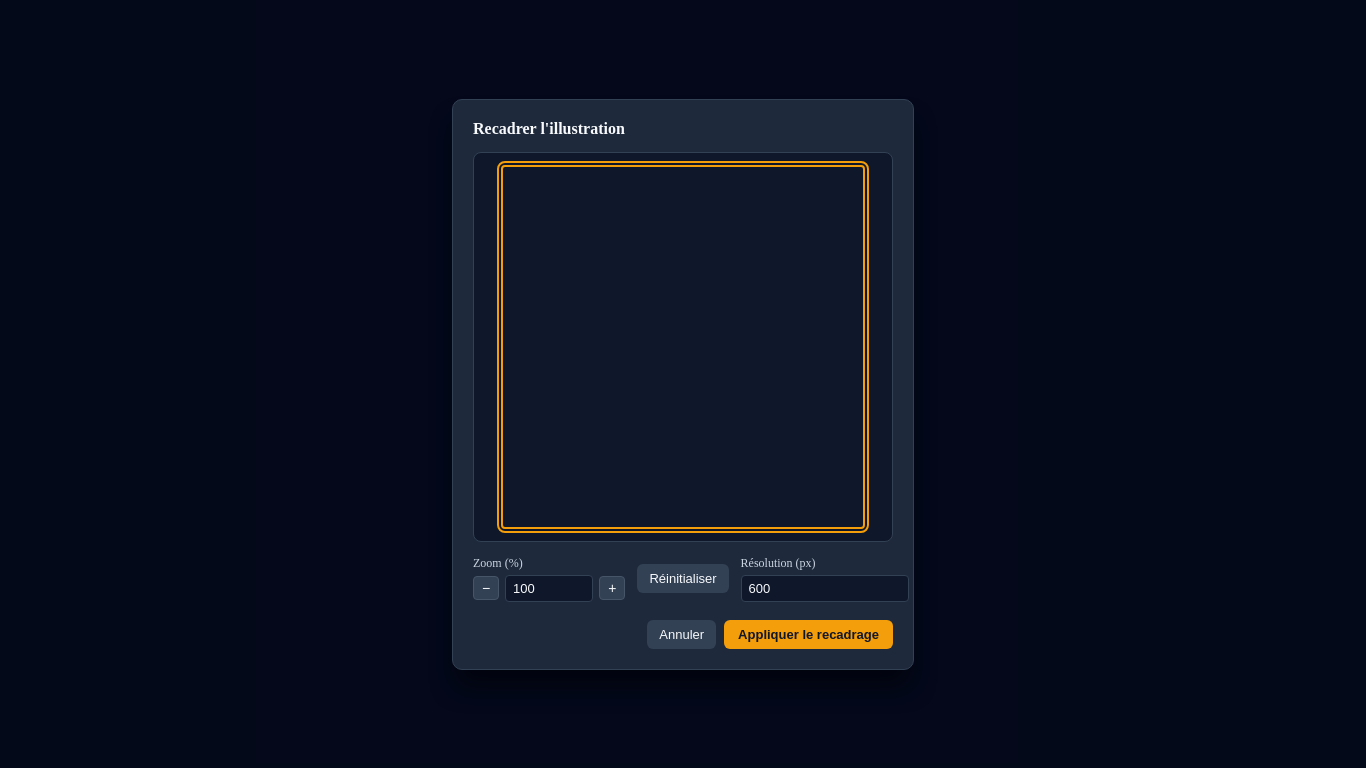
it: ImageCropper › can zoom out below 100% with the editable zoom field and the zoom buttons
This screenshot has width=1366, height=768.
Expected: the button "Appliquer le recadrage" is enabled, [724,620,893,648]
Click the button named "Dézoomer" at (486, 588), box [473,576,499,600]
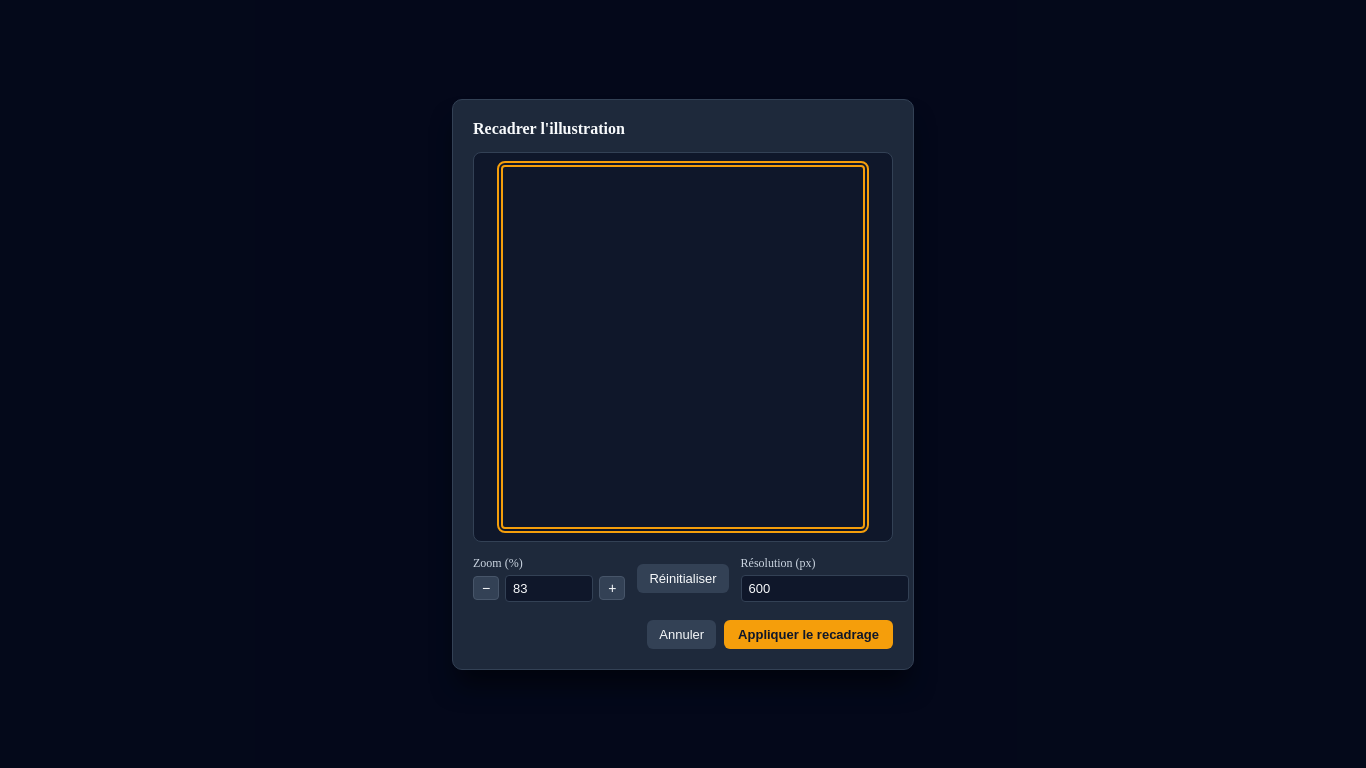
Now the field named "Zoom (%)" holds "83", box [505,574,593,602]
Click the button named "Zoomer" at (612, 588), box [599,576,625,600]
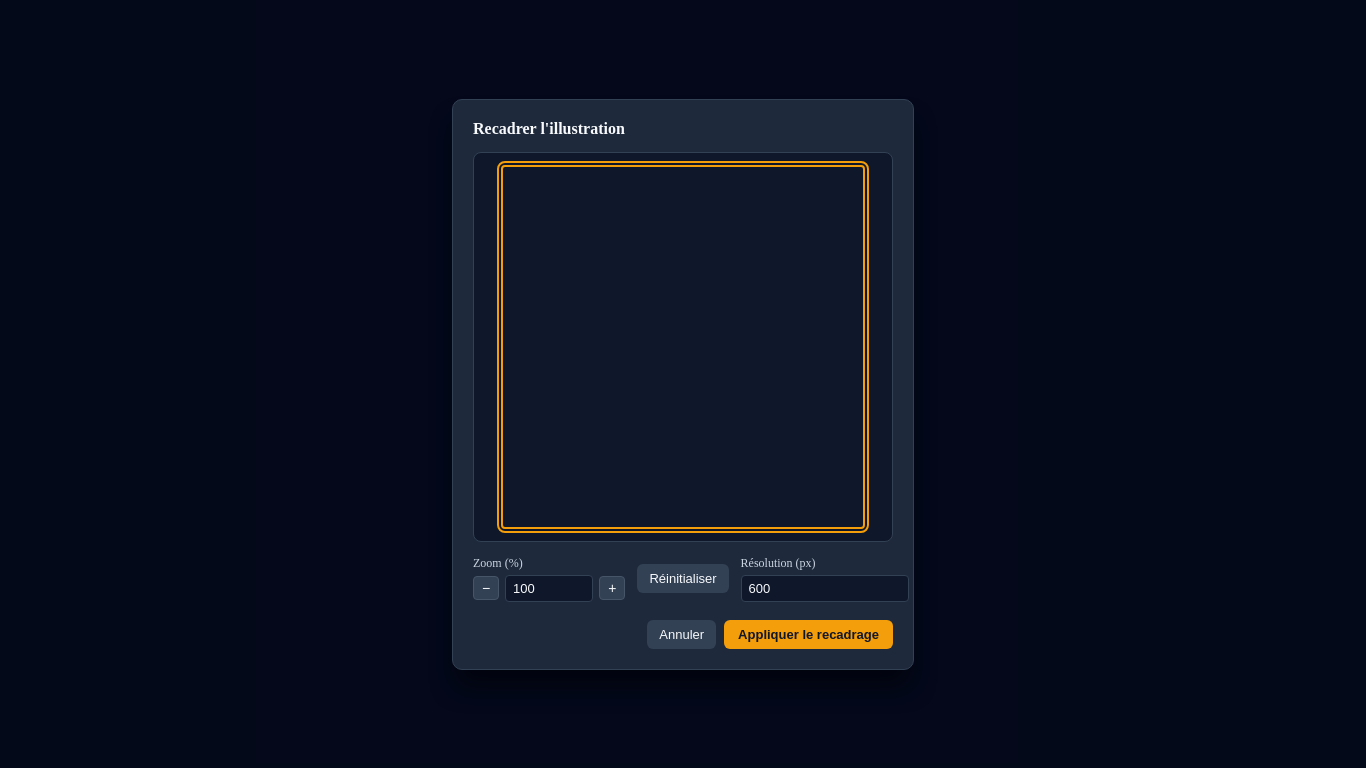
Now the field named "Zoom (%)" holds "100"
Replace the text in the field named "Zoom (%)" with "50%" at (549, 588), box [505,574,593,602]
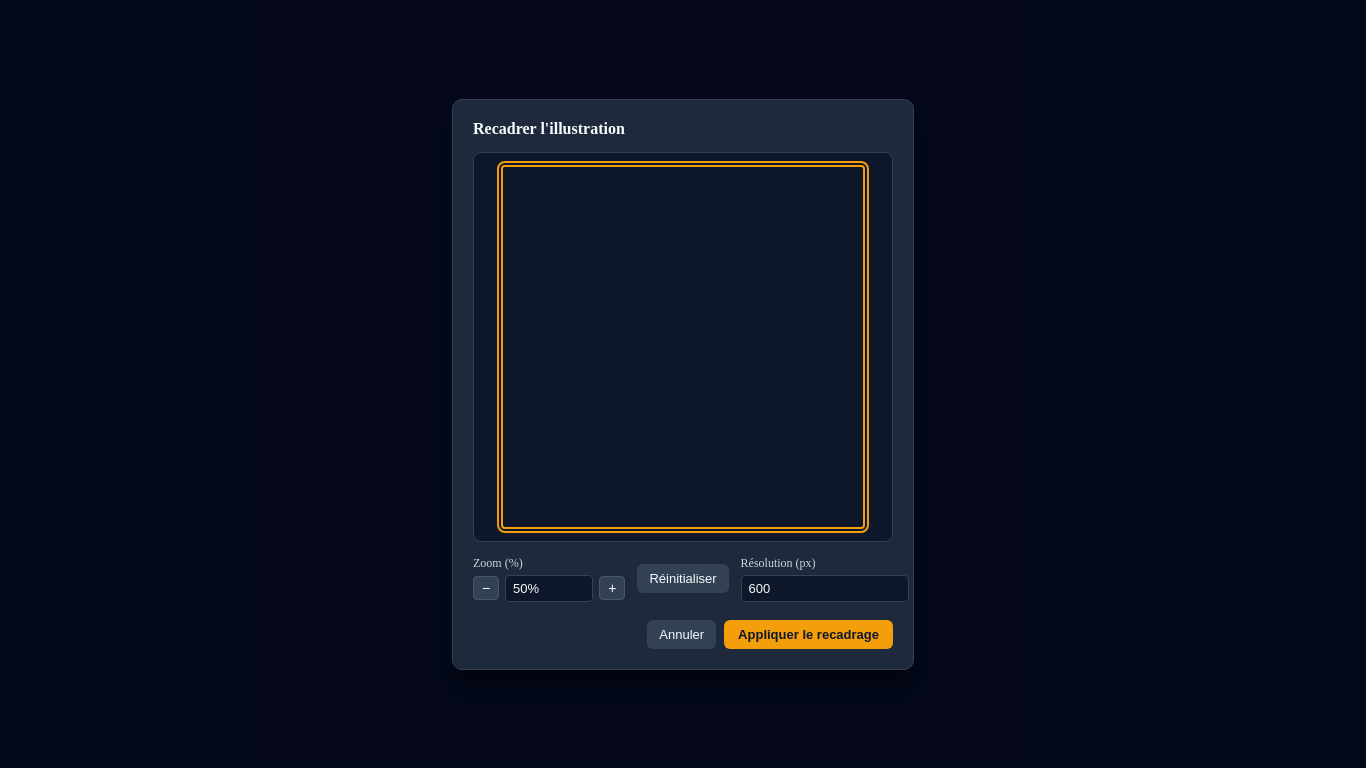
Press Enter in the field named "Zoom (%)", box [505,574,593,602]
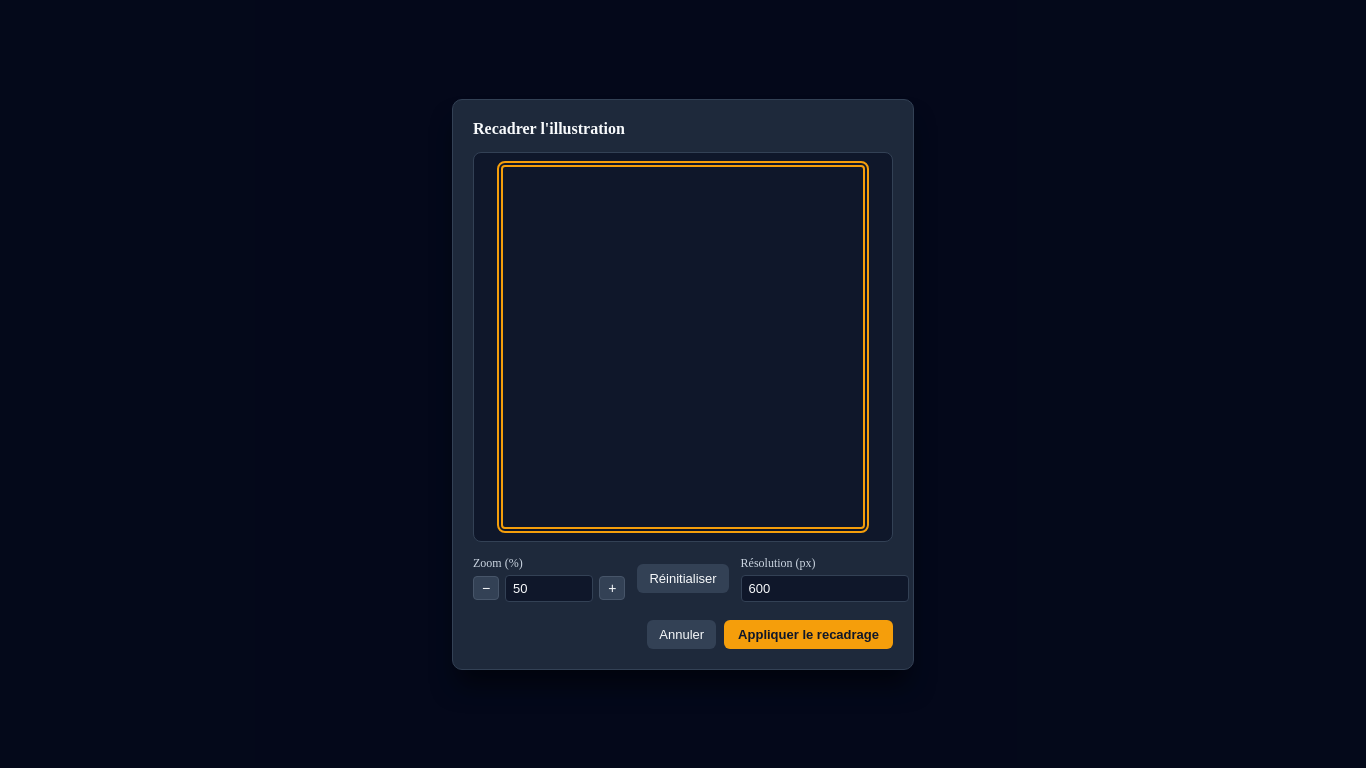
Now the field named "Zoom (%)" holds "50", box [505,574,593,602]
